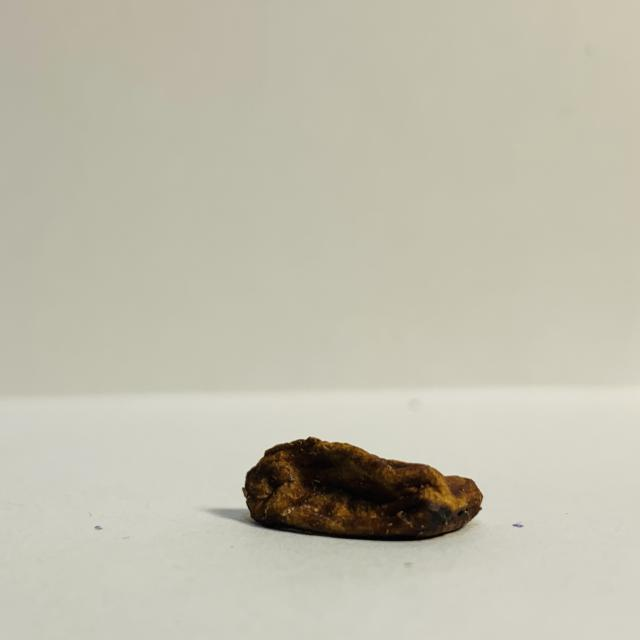Flat_cocoabeans: (143, 409, 582, 560)
